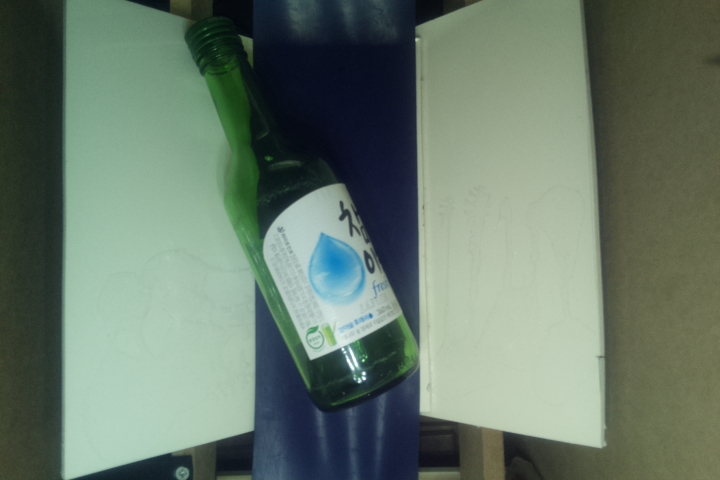soju: (182, 15, 428, 414)
